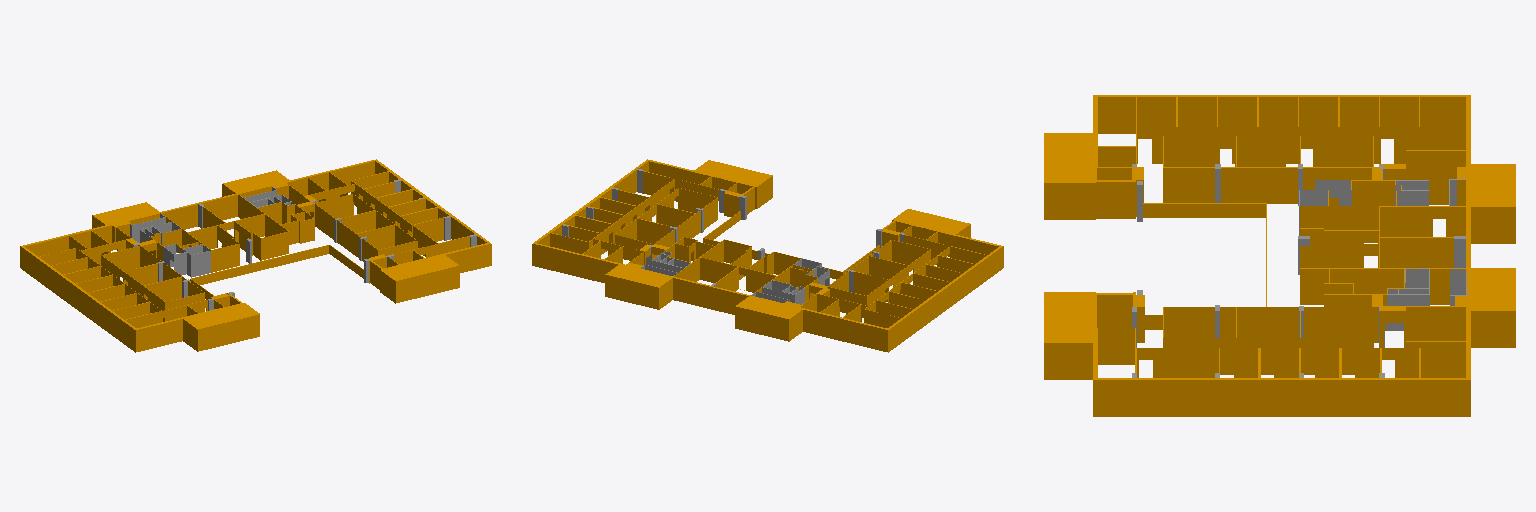
URDF robot description (cs_1):
<?xml version="1.0"?>
<robot name="cs_1">
  <link name="base_link">
    <visual>
      <origin rpy="0 0 0" xyz="0 0 0"/>
      <geometry>
        <mesh filename="package://strands_morse/bham/meshes/cs_1.dae"/>
      </geometry>
    </visual>
  </link>
  <link name="base_footprint"/>
  <joint name="base_footprint_joint" type="fixed">
    <origin rpy="0 0 0" xyz="0 0 0.0"/>
    <child link="base_link"/>
    <parent link="base_footprint"/>
  </joint>
</robot>

--- Facts derived from the render (not from the file) ---
The picture shows the robot from 3 angles, left to right: view 1: azimuth 30°, elevation 25°; view 2: azimuth 150°, elevation 25°; view 3: azimuth 270°, elevation 25°; orthographic projection.
Robot: cs_1 — 2 links, 1 joints (1 fixed); root link base_footprint; default pose: every joint at zero.
Links seen in each view (by area): view 1: base_link; view 2: base_link; view 3: base_link.
Boxes of the visible links, x1,y1,x2,y2 form: base_link: (20,159,491,352); base_link: (532,159,1003,352); base_link: (1044,95,1515,416).
Bounding box of the posed robot: 50 × 34.88 × 3 m (x, y, z).
1 mesh visuals loaded from 1 distinct referenced files (1 Collada DAE).